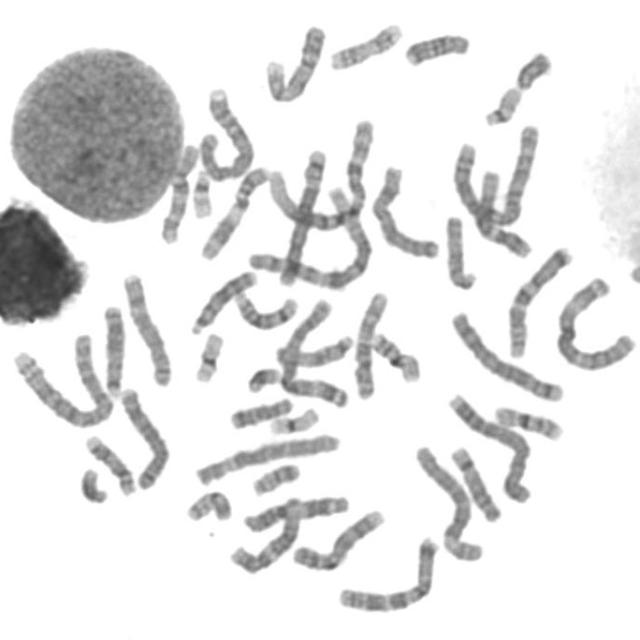A1: (261, 112, 379, 232), (248, 183, 374, 289)
A2: (9, 328, 115, 430), (447, 117, 543, 227)
A3: (274, 293, 354, 410), (551, 270, 638, 373)
B4: (444, 388, 535, 507), (194, 83, 256, 182)
B5: (445, 306, 566, 404), (275, 144, 330, 289)
C10: (154, 137, 202, 246), (349, 285, 392, 402)
C11: (195, 161, 273, 262), (238, 489, 352, 534)
C12: (225, 494, 304, 577), (472, 165, 534, 260)
C6: (410, 440, 486, 564), (191, 429, 342, 488)
C7: (333, 532, 442, 614), (502, 240, 576, 360)
C8: (117, 267, 175, 389), (114, 382, 172, 492)
C9: (289, 505, 387, 573), (261, 19, 328, 104)
D13: (186, 264, 260, 338), (98, 300, 128, 400)
D14: (446, 442, 504, 524), (228, 287, 302, 332)
D15: (270, 328, 358, 368), (440, 210, 480, 292)
E16: (366, 328, 424, 384), (490, 400, 566, 442)
E17: (326, 17, 406, 73), (80, 430, 138, 497)
E18: (399, 26, 474, 68), (226, 393, 294, 431)
F19: (190, 327, 226, 385), (264, 402, 322, 438)
F20: (248, 459, 303, 498), (181, 486, 234, 524)
G21: (75, 462, 111, 506), (242, 361, 284, 395)
G22: (480, 81, 525, 128), (188, 165, 214, 220)
X: (368, 160, 442, 260)
Y: (511, 46, 554, 91)
